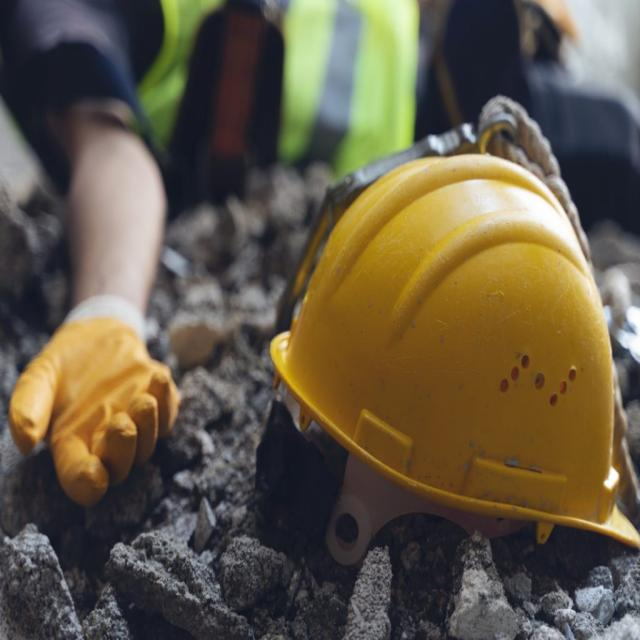Gloves: (6, 306, 190, 514)
Hard Hat: (252, 111, 626, 622)
Reflective Vest: (120, 0, 417, 173)
